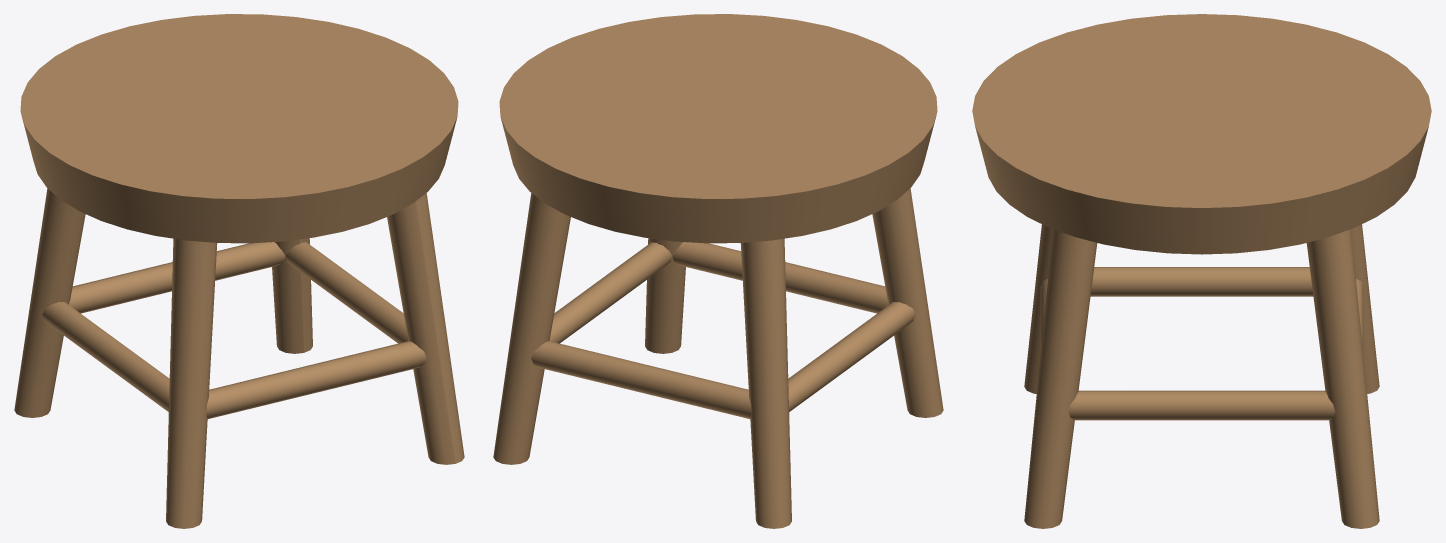
The model's file is woodstool.glb.
3 views of the same model, side by side, from view 1: azimuth 30°, elevation 25°; view 2: azimuth 150°, elevation 25°; view 3: azimuth 270°, elevation 25° (orthographic). The views are drawn at different scales.
Visible parts, largest first — view 1: solid-round-seat, stool-leg--1-1, stool-leg-1-1, stool-leg--1--1, cross-rail-1, cross-rail--1, side-rail--1, side-rail-1, stool-leg-1--1; view 2: solid-round-seat, stool-leg--1--1, stool-leg-1--1, stool-leg--1-1, cross-rail--1, cross-rail-1, side-rail--1, side-rail-1, stool-leg-1-1; view 3: solid-round-seat, stool-leg-1--1, stool-leg-1-1, side-rail-1, side-rail--1, stool-leg--1--1, stool-leg--1-1.
Part boxes in pixels (<box>): solid-round-seat: <box>20,14,458,243</box>; stool-leg--1-1: <box>166,238,217,528</box>; stool-leg-1-1: <box>387,193,464,464</box>; stool-leg--1--1: <box>14,188,85,417</box>; cross-rail-1: <box>206,341,426,418</box>; cross-rail--1: <box>69,242,285,313</box>; side-rail--1: <box>42,302,169,411</box>; side-rail-1: <box>285,242,408,343</box>; stool-leg-1--1: <box>272,238,312,353</box>; solid-round-seat: <box>499,14,937,243</box>; stool-leg--1--1: <box>740,238,791,528</box>; stool-leg-1--1: <box>493,193,570,464</box>; stool-leg--1-1: <box>872,188,943,417</box>; cross-rail--1: <box>531,341,751,418</box>; cross-rail-1: <box>672,242,888,313</box>; side-rail--1: <box>788,302,915,411</box>; side-rail-1: <box>549,242,672,343</box>; stool-leg-1-1: <box>645,238,685,353</box>; solid-round-seat: <box>972,14,1431,254</box>; stool-leg-1--1: <box>1306,229,1379,528</box>; stool-leg-1-1: <box>1024,229,1097,528</box>; side-rail-1: <box>1068,390,1335,420</box>; side-rail--1: <box>1090,267,1313,296</box>; stool-leg--1--1: <box>1351,224,1379,393</box>; stool-leg--1-1: <box>1024,224,1052,393</box>.
Bounding box in the file's own units: 0.68 × 0.5598 × 0.68.
